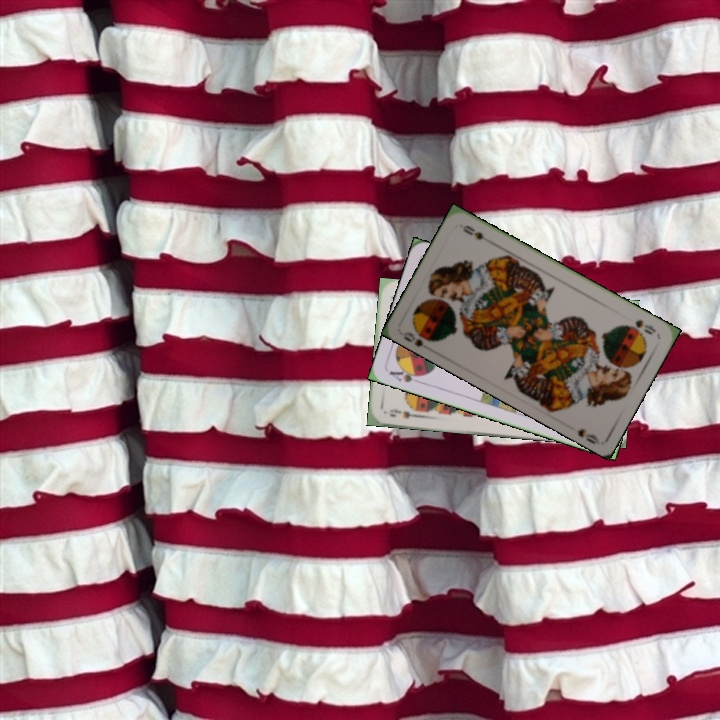S9: (386, 404, 423, 421)
SA: (385, 364, 427, 386)
SO: (399, 324, 440, 349), (626, 315, 658, 337)
